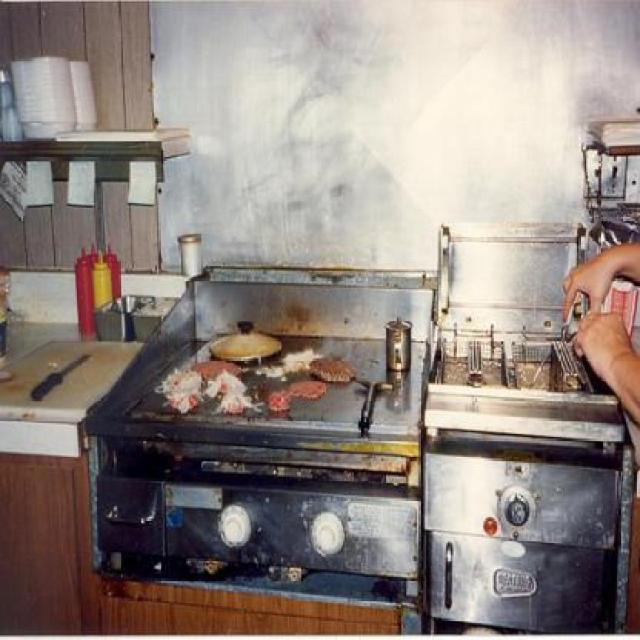Person: (558, 233, 639, 427)
